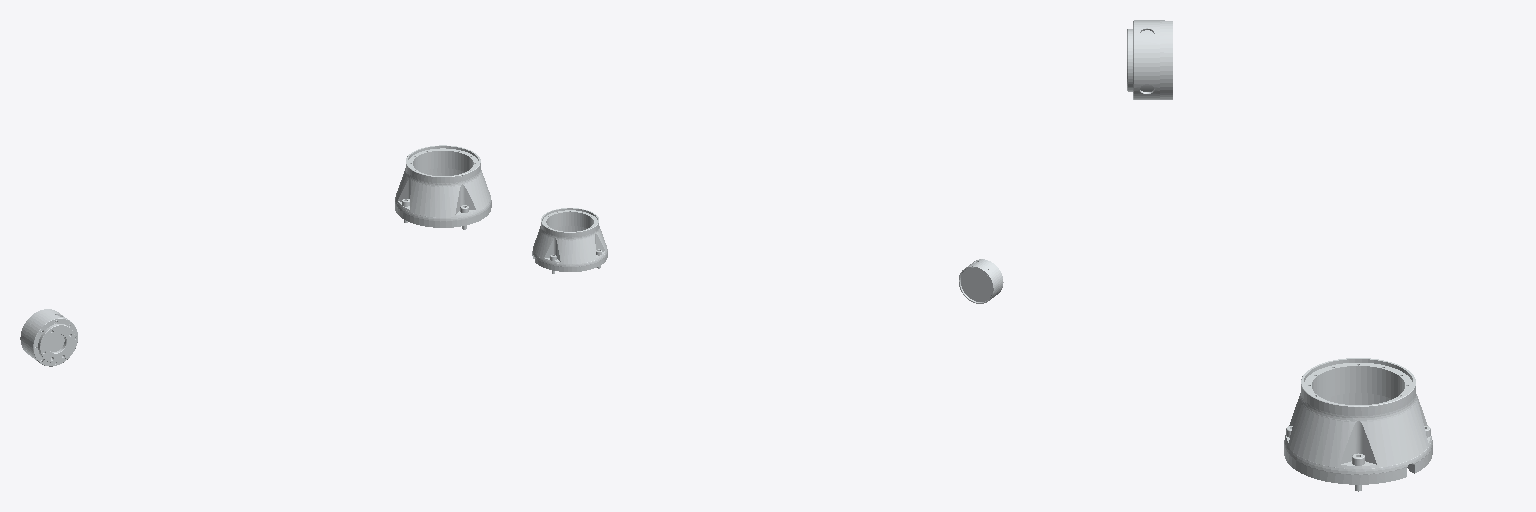
URDF robot description (fr5_robot):
<?xml version="1.0" encoding="utf-8"?>
<!-- This URDF was automatically created by SolidWorks to URDF Exporter! Originally created by [author] ([email redacted]) 
     Commit Version: 1.5.1-0-g916b5db  Build Version: 1.5.7152.31018
     For more information, please see http://wiki.ros.org/sw_urdf_exporter -->
<robot
  name="fr5_robot">

  <link name="world"/>
  <joint name="world" type="fixed">
    <parent link="world"/>
    <child link="base_link"/>
  </joint>

  <link
    name="base_link">
    <inertial>
      <origin
        xyz="-0.00044457 0.0004811 0.032592"
        rpy="0 0 0" />
      <mass
        value="1.073" />
      <inertia
        ixx="0.0024567"
        ixy="-1.5435E-05"
        ixz="-1.3507E-05"
        iyy="0.0024575"
        iyz="1.4421E-05"
        izz="0.0038879" />
    </inertial>
    <visual>
      <origin
        xyz="0 0 0"
        rpy="0 0 0" />
      <geometry>
        <mesh
          filename="package://fr5_description/meshes/visual/base.dae" />
      </geometry>
      <material
        name="">
        <color
          rgba="0.89804 0.91765 0.92941 1" />
      </material>
    </visual>
    <collision>
      <origin
        xyz="0 0 0"
        rpy="0 0 0" />
      <geometry>
        <mesh
          filename="package://fr5_description/meshes/collision/base_link.STL" />
      </geometry>
    </collision>
  </link>
  <link
    name="shoulder_Link">
    <inertial>
      <origin
        xyz="1.3785E-06 -0.0031495 0.14526"
        rpy="0 0 0" />
      <mass
        value="4.1676" />
      <inertia
        ixx="0.010397"
        ixy="-1.005E-08"
        ixz="1.6274E-07"
        iyy="0.010278"
        iyz="0.00015856"
        izz="0.0076307" />
    </inertial>
    <visual>
      <origin
        xyz="0 0 0"
        rpy="0 0 0" />
      <geometry>
        <mesh
          filename="package://fr5_description/meshes/visual/shoulder.dae" />
      </geometry>
      <material
        name="">
        <color
          rgba="0.89804 0.91765 0.92941 1" />
      </material>
    </visual>
    <collision>
      <origin
        xyz="0 0 0"
        rpy="0 0 0" />
      <geometry>
        <mesh
          filename="package://fr5_description/meshes/collision/shoulder_Link.STL" />
      </geometry>
    </collision>
  </link>
  <joint
    name="j1"
    type="revolute">
    <origin
      xyz="0 0 0"
      rpy="0 0 0" />
    <parent
      link="base_link" />
    <child
      link="shoulder_Link" />
    <axis
      xyz="0 0 1" />
    <limit
      lower="-3.0543261"
      upper="3.0543261"
      effort="150"
      velocity="3.15" />
    <calibration
      rising="0"
      falling="0" />
    <dynamics
      damping="0"
      friction="0" />
    <safety_controller
      soft_upper_limit="3.0543261"
      soft_lower_limit="-3.0543261"
      k_position="100.0"
      k_velocity="40.0" />
  </joint>
  <link
    name="upperarm_Link">
    <inertial>
      <origin
        xyz="-2.2928E-05 0.33278 0.084237"
        rpy="0 0 0" />
      <mass
        value="20.782" />
      <inertia
        ixx="2.9074"
        ixy="-0.00023104"
        ixz="-2.5049E-05"
        iyy="0.12653"
        iyz="-0.1479"
        izz="2.8157" />
    </inertial>
    <visual>
      <origin
        xyz="0 0 0"
        rpy="0 0 0" />
      <geometry>
        <mesh
          filename="package://fr5_description/meshes/visual/upperarm.dae" />
      </geometry>
      <material
        name="">
        <color
          rgba="0.89804 0.91765 0.92941 1" />
      </material>
    </visual>
    <collision>
      <origin
        xyz="0 0 0"
        rpy="0 0 0" />
      <geometry>
        <mesh
          filename="package://fr5_description/meshes/collision/upperarm_Link.STL" />
      </geometry>
    </collision>
  </link>
  <joint
    name="j2"
    type="revolute">
    <origin
      xyz="0 0 0.155"
      rpy="1.570796 -1.570796 0" />
    <parent
      link="shoulder_Link" />
    <child
      link="upperarm_Link" />
    <axis
      xyz="0 0 1" />
    <limit
      lower="-4.6251225"
      upper="1.4835298"
      effort="150"
      velocity="3.15" />
    <calibration
      rising="0"
      falling="0" />
    <dynamics
      damping="0"
      friction="0" />
    <safety_controller
      soft_upper_limit="1.4835298"
      soft_lower_limit="-4.6251225"
      k_position="100"
      k_velocity="40" />
  </joint>
  <link
    name="forearm_Link">
    <inertial>
      <origin
        xyz="0.092224 -2.2928E-05 0.084237"
        rpy="0 0 0" />
      <mass
        value="20.782" />
      <inertia
        ixx="0.12653"
        ixy="0.00023104"
        ixz="0.1479"
        iyy="2.9074"
        iyz="-2.5049E-05"
        izz="2.8157" />
    </inertial>
    <visual>
      <origin
        xyz="0 0 0"
        rpy="0 0 0" />
      <geometry>
        <mesh
          filename="package://fr5_description/meshes/visual/forearm.dae" />
      </geometry>
      <material
        name="">
        <color
          rgba="0.89804 0.91765 0.92941 1" />
      </material>
    </visual>
    <collision>
      <origin
        xyz="0 0 0"
        rpy="0 0 0" />
      <geometry>
        <mesh
          filename="package://fr5_description/meshes/collision/forearm_Link.STL" />
      </geometry>
    </collision>
  </link>
  <joint
    name="j3"
    type="revolute">
    <origin
      xyz="0 0.425 0"
      rpy="0 0 -1.570796" />
    <parent
      link="upperarm_Link" />
    <child
      link="forearm_Link" />
    <axis
      xyz="0 0 1" />
    <limit
      lower="-2.8274333"
      upper="2.8274333"
      effort="150"
      velocity="3.15" />
    <calibration
      rising="0"
      falling="0" />
    <dynamics
      damping="0"
      friction="0" />
    <safety_controller
      soft_upper_limit="2.8274333"
      soft_lower_limit="-2.8274333"
      k_position="100"
      k_velocity="40" />
  </joint>
  <link
    name="wrist1_Link">
    <inertial>
      <origin
        xyz="0.48722 -2.2928E-05 0.084237"
        rpy="0 0 0" />
      <mass
        value="20.782" />
      <inertia
        ixx="0.12653"
        ixy="0.00023104"
        ixz="0.1479"
        iyy="2.9074"
        iyz="-2.5049E-05"
        izz="2.8157" />
    </inertial>
    <visual>
      <origin
        xyz="0 0 0"
        rpy="0 0 0" />
      <geometry>
        <mesh
          filename="package://fr5_description/meshes/visual/wrist1.dae" />
      </geometry>
      <material
        name="">
        <color
          rgba="0.89804 0.91765 0.92941 1" />
      </material>
    </visual>
    <collision>
      <origin
        xyz="0 0 0"
        rpy="0 0 0" />
      <geometry>
        <mesh
          filename="package://fr5_description/meshes/collision/wrist1_Link.STL" />
      </geometry>
    </collision>
  </link>
  <joint
    name="j4"
    type="revolute">
    <origin
      xyz="-0.395 0 0"
      rpy="0 0 1.570796" />
    <parent
      link="forearm_Link" />
    <child
      link="wrist1_Link" />
    <axis
      xyz="0 0 1" />
    <limit
      lower="-4.6251225"
      upper="1.4835298"
      effort="28"
      velocity="3.2" />
    <calibration
      rising="0"
      falling="0" />
    <dynamics
      damping="0"
      friction="0" />
    <safety_controller
      soft_upper_limit="1.4835298"
      soft_lower_limit="-4.6251225"
      k_position="100"
      k_velocity="40" />
  </joint>
  <link
    name="wrist2_Link">
    <inertial>
      <origin
        xyz="-2.396E-06 0.0045906 0.099342"
        rpy="0 0 0" />
      <mass
        value="1.570796" />
      <inertia
        ixx="0.0022393"
        ixy="-1.0022E-07"
        ixz="-3.2115E-08"
        iyy="0.0013914"
        iyz="-2.2223E-05"
        izz="0.0021864" />
    </inertial>
    <visual>
      <origin
        xyz="0 0 0"
        rpy="0 0 0" />
      <geometry>
        <mesh
          filename="package://fr5_description/meshes/visual/wrist2.dae" />
      </geometry>
      <material
        name="">
        <color
          rgba="0.89804 0.91765 0.92941 1" />
      </material>
    </visual>
    <collision>
      <origin
        xyz="0 0 0"
        rpy="0 0 0" />
      <geometry>
        <mesh
          filename="package://fr5_description/meshes/collision/wrist2_Link.STL" />
      </geometry>
    </collision>
  </link>
  <joint
    name="j5"
    type="revolute">
    <origin
      xyz="0 0 0.13"
      rpy="1.570796 0 -1.570796" />
    <parent
      link="wrist1_Link" />
    <child
      link="wrist2_Link" />
    <axis
      xyz="0 0 1" />
    <limit
      lower="-3.0543261"
      upper="3.0543261"
      effort="28"
      velocity="3.2" />
    <calibration
      rising="0"
      falling="0" />
    <dynamics
      damping="0"
      friction="0" />
    <safety_controller
      soft_upper_limit="3.0543261"
      soft_lower_limit="-3.0543261"
      k_position="100"
      k_velocity="40" />
  </joint>
  <link
    name="wrist3_Link">
    <inertial>
      <origin
        xyz="5.8427E-06 7.5807E-05 0.079126"
        rpy="0 0 0" />
      <mass
        value="0.52527" />
      <inertia
        ixx="0.00027801"
        ixy="-3.5346E-07"
        ixz="-1.7431E-07"
        iyy="0.00027736"
        iyz="-7.5888E-08"
        izz="0.00041582" />
    </inertial>
    <visual>
      <origin
        xyz="0 0 0"
        rpy="0 0 0" />
      <geometry>
        <mesh
          filename="package://fr5_description/meshes/visual/wrist3.dae" />
      </geometry>
      <material
        name="">
        <color
          rgba="0.89804 0.91765 0.92941 1" />
      </material>
    </visual>
    <collision>
      <origin
        xyz="0 0 0"
        rpy="0 0 0" />
      <geometry>
        <mesh
          filename="package://fr5_description/meshes/collision/wrist3_Link.STL" />
      </geometry>
    </collision>
  </link>
  <joint
    name="j6"
    type="revolute">
    <origin
      xyz="0 0 0.102"
      rpy="-1.570796 1.570796 0" />
    <parent
      link="wrist2_Link" />
    <child
      link="wrist3_Link" />
    <axis
      xyz="0 0 1" />
    <limit
      lower="-3.0543261"
      upper="3.0543261"
      effort="28"
      velocity="3.2" />
    <calibration
      rising="0"
      falling="0" />
    <dynamics
      damping="0"
      friction="0" />
    <safety_controller
      soft_upper_limit="3.0543261"
      soft_lower_limit="-3.0543261"
      k_position="100"
      k_velocity="40" />
  </joint>
</robot>

--- What the picture shows (computed from the rendered views, not written in the file) ---
3 views of the same robot in one strip: view 1: azimuth 30°, elevation 25°; view 2: azimuth 150°, elevation 25°; view 3: azimuth 270°, elevation 25° (orthographic).
Robot: fr5_robot — 8 links, 7 joints (6 revolute, 1 fixed); root link world; default pose: all joints at 0.
Visible links, largest first — view 1: base_link, wrist3_Link; view 2: base_link, wrist3_Link; view 3: base_link, wrist3_Link.
Boxes of the visible links, left/top/right/bottom form: base_link: left=395, top=145, right=491, bottom=229; wrist3_Link: left=20, top=309, right=77, bottom=366; base_link: left=532, top=208, right=607, bottom=273; wrist3_Link: left=959, top=259, right=1003, bottom=303; base_link: left=1284, top=358, right=1432, bottom=491; wrist3_Link: left=1127, top=20, right=1172, bottom=99.
Bounding box of the posed robot: 0.9344 × 0.3064 × 0.1028 m (x, y, z).
Meshes: 7 distinct files referenced, 2 mesh visuals loaded (2 Collada DAE); not drawn: 5 (reference not matched to a file when rendering).